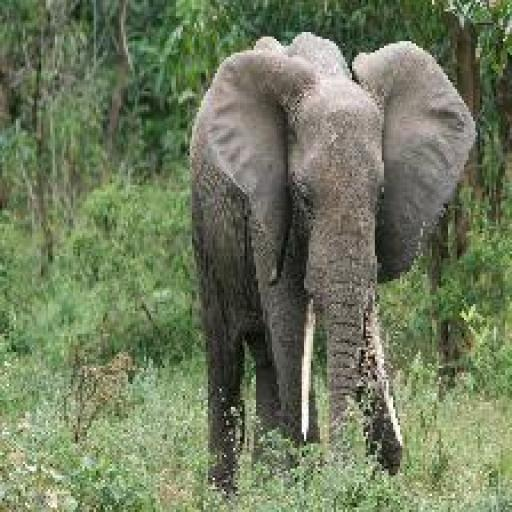Elephant: (188, 30, 476, 498)
